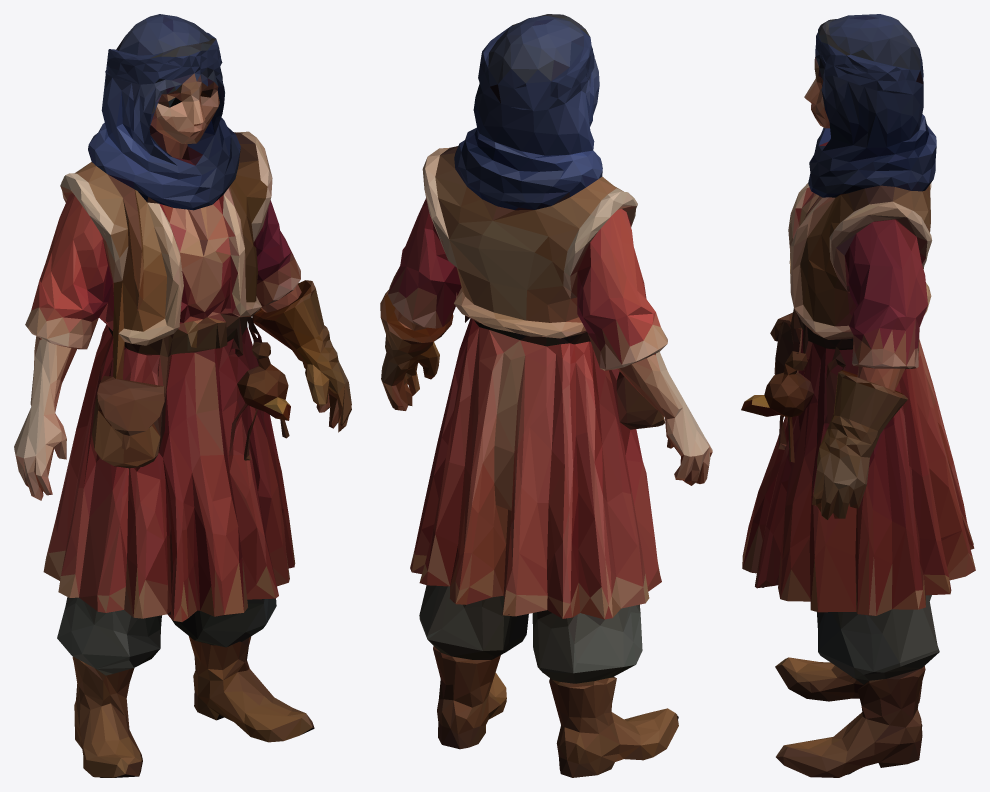
The model's file is nouf_10k.glb.
3 renders of one model, left to right at view 1: azimuth 30°, elevation 25°; view 2: azimuth 150°, elevation 25°; view 3: azimuth 270°, elevation 25°, orthographic.
Parts seen in each view (by area): view 1: Nouf; view 2: Nouf; view 3: Nouf.
Boxes of the visible parts, x1=… form: Nouf: x1=14, y1=14, x2=351, y2=777; Nouf: x1=380, y1=14, x2=712, y2=777; Nouf: x1=741, y1=14, x2=975, y2=777.
Bounding box in the file's own units: 0.7762 × 1.65 × 0.495.
